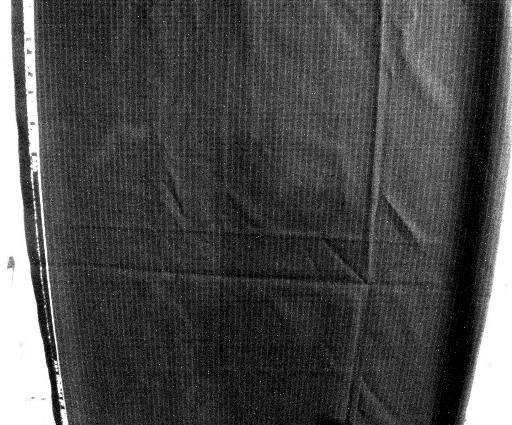fabric_perfect: (0, 1, 512, 423)
